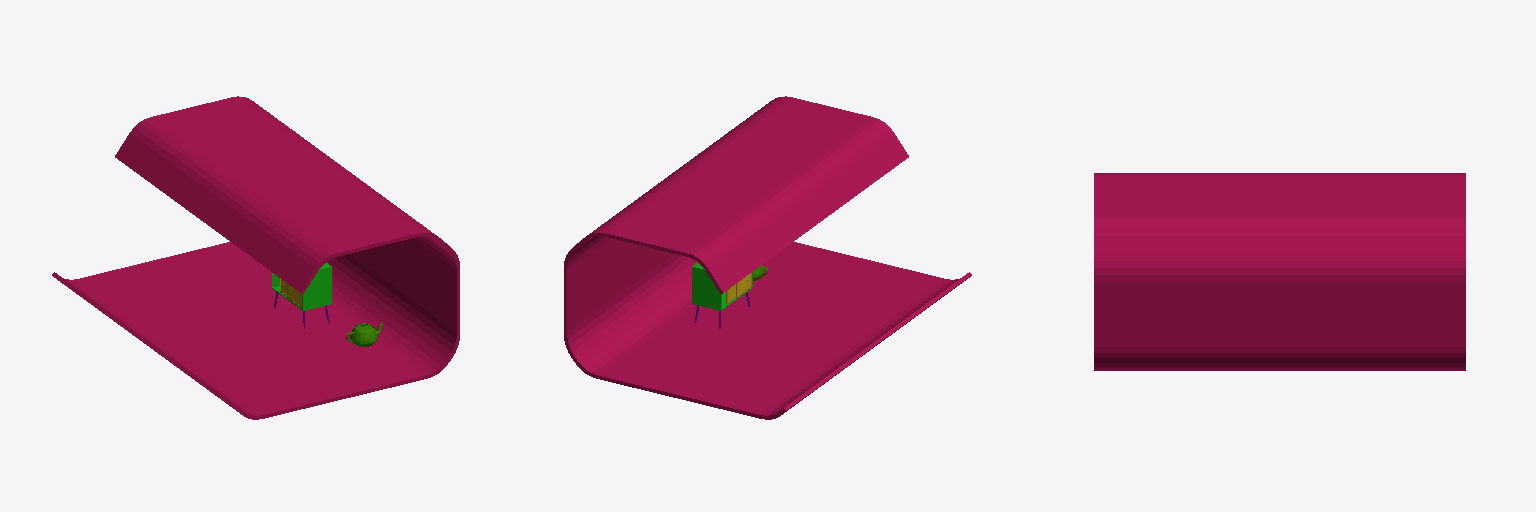
Rendered from vintage.obj.
3 views of the same model, side by side, from view 1: azimuth 30°, elevation 25°; view 2: azimuth 150°, elevation 25°; view 3: azimuth 270°, elevation 25° (orthographic).
Parts seen in each view (by area): view 1: Line01, Object02, Teapot01; view 2: Line01, Object02; view 3: Line01.
Boxes of the visible parts, x1,y1,x2,y2 form: Line01: [52, 96, 459, 419]; Object02: [272, 266, 331, 310]; Teapot01: [346, 323, 383, 346]; Line01: [564, 96, 971, 419]; Object02: [692, 266, 752, 310]; Line01: [1094, 173, 1465, 370].
Bounding box in the file's own units: 385 × 244 × 556.